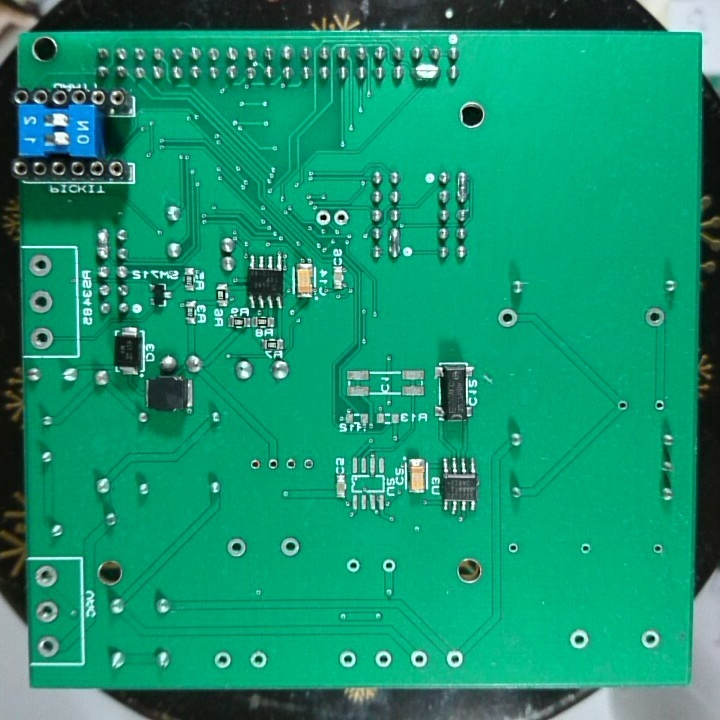F: (31, 563, 60, 592), (33, 595, 62, 623), (26, 252, 54, 280), (34, 632, 62, 660), (28, 288, 55, 317), (28, 323, 54, 351), (642, 303, 668, 330), (495, 306, 520, 331), (442, 647, 467, 672), (637, 626, 662, 651), (225, 535, 248, 562), (277, 535, 301, 560), (371, 648, 395, 672), (337, 647, 360, 672), (568, 626, 590, 651), (408, 646, 431, 669), (212, 649, 234, 672), (248, 649, 269, 671), (344, 555, 362, 578), (331, 207, 351, 227), (314, 207, 332, 229), (379, 553, 397, 575), (651, 395, 668, 417), (299, 455, 317, 475), (503, 539, 522, 557), (614, 396, 631, 416), (248, 455, 265, 474), (648, 540, 665, 559), (577, 538, 593, 558), (282, 456, 298, 474), (265, 457, 280, 474)
P: (409, 62, 442, 86), (93, 226, 111, 264), (386, 225, 403, 262), (454, 171, 472, 205)
